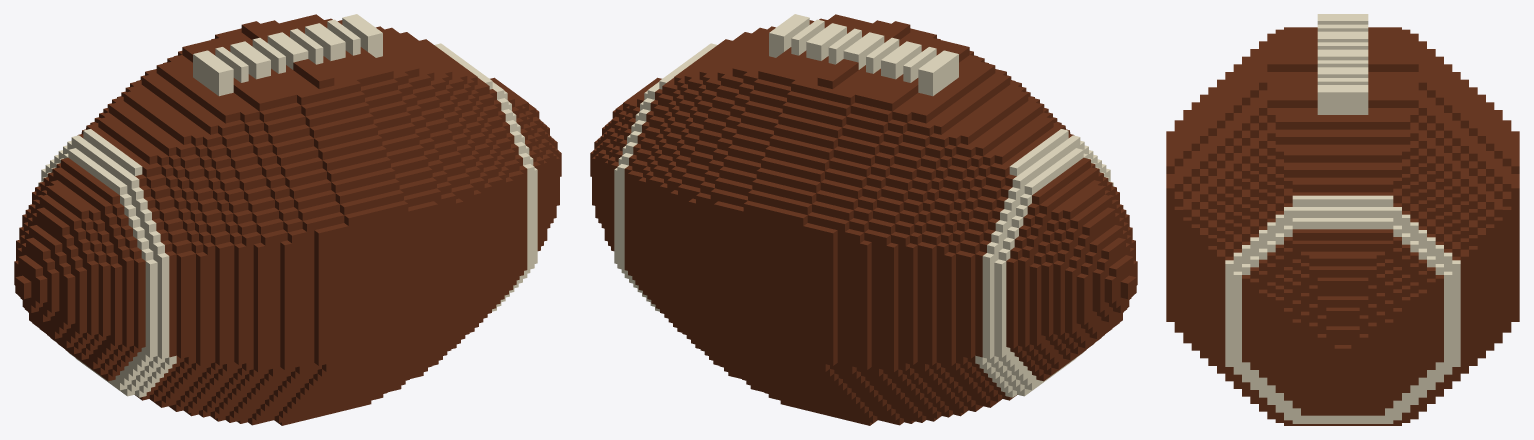
File: football.glb
3 renders of one model, left to right at view 1: azimuth 30°, elevation 25°; view 2: azimuth 150°, elevation 25°; view 3: azimuth 270°, elevation 25°, orthographic. The views are drawn at different scales.
Parts seen in each view (by area): view 1: football:compound; view 2: football:compound; view 3: football:compound.
Boxes of the visible parts, x1=… form: football:compound: x1=14, y1=14, x2=561, y2=425; football:compound: x1=590, y1=14, x2=1137, y2=425; football:compound: x1=1166, y1=14, x2=1519, y2=425.
Size of the model in its own units: 0.288 by 0.176 by 0.168.
